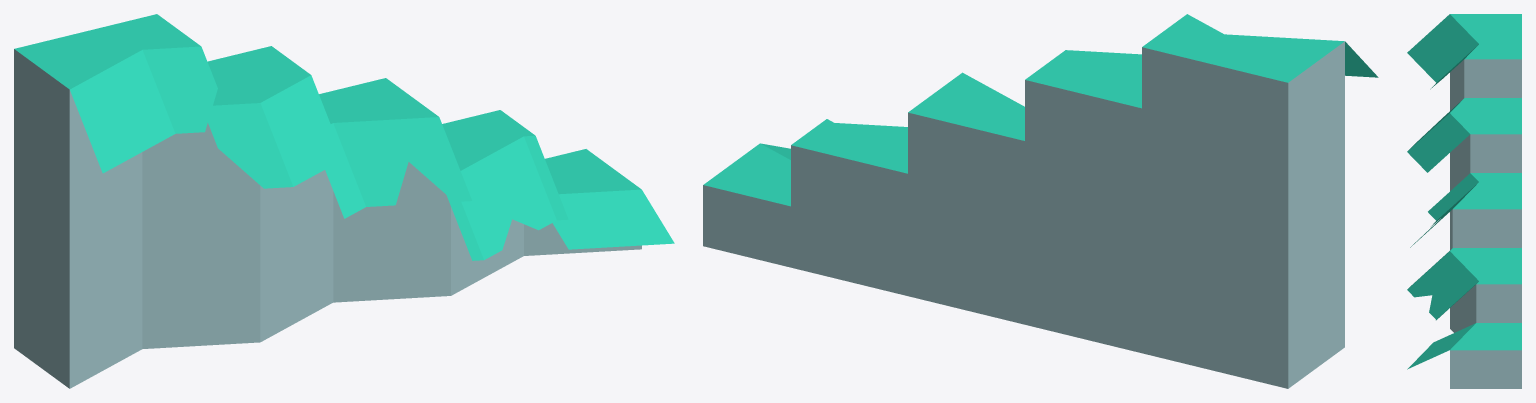
Rendered from cliff_stairBorder_lower_left_stone.fbx.
The picture shows the model from 3 angles, left to right: view 1: azimuth 30°, elevation 25°; view 2: azimuth 150°, elevation 25°; view 3: azimuth 270°, elevation 25°; orthographic projection. The views are drawn at different scales.
Visible parts, largest first — view 1: cliff_top_stone; view 2: cliff_top_stone; view 3: cliff_top_stone.
Part boxes in pixels (x1,y1,x2,y2): cliff_top_stone: (14, 14, 674, 388); cliff_top_stone: (703, 14, 1378, 388); cliff_top_stone: (1407, 14, 1521, 388).
Bounding box in the file's own units: 10 × 5 × 2.68.
